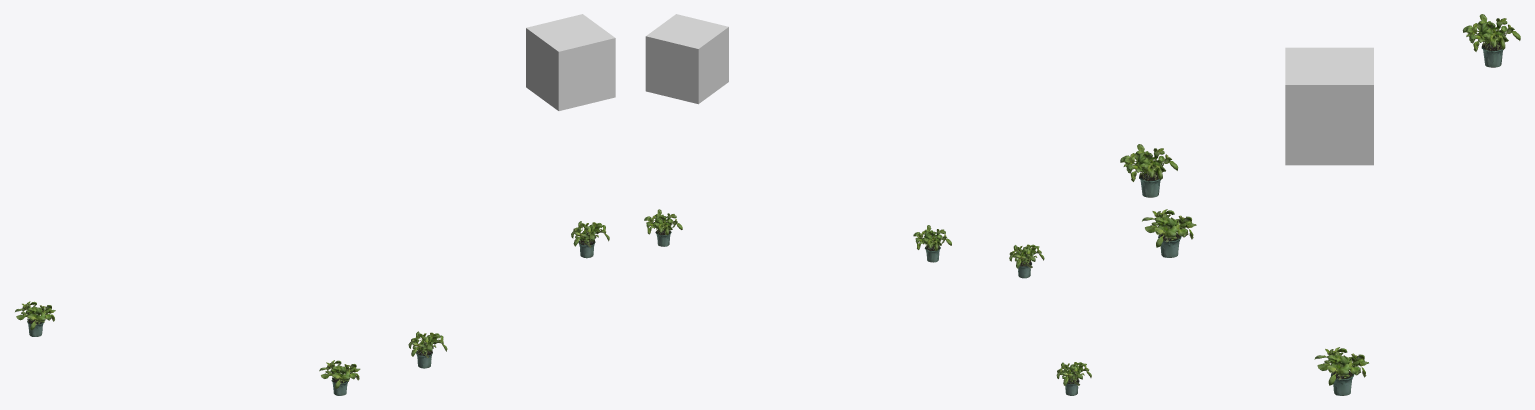
Rendered from Basil.glb.
3 views of the same model, side by side, from view 1: azimuth 30°, elevation 25°; view 2: azimuth 150°, elevation 25°; view 3: azimuth 270°, elevation 25° (orthographic). The views are drawn at different scales.
Parts seen in each view (by area): view 1: Cube.005, basil (×4); view 2: Cube.005, basil (×4); view 3: Cube.005, basil (×4).
Boxes of the visible parts, x1,y1,x2,y2 form: Cube.005: [526, 14, 615, 110]; basil (×4): [15, 221, 609, 395]; Cube.005: [645, 14, 728, 104]; basil (×4): [644, 209, 1091, 395]; Cube.005: [1285, 47, 1373, 165]; basil (×4): [1120, 14, 1520, 395].
Size of the model in its own units: 5.97 by 2.57 by 2.88.
Materials: 1 (1 with a texture image).
